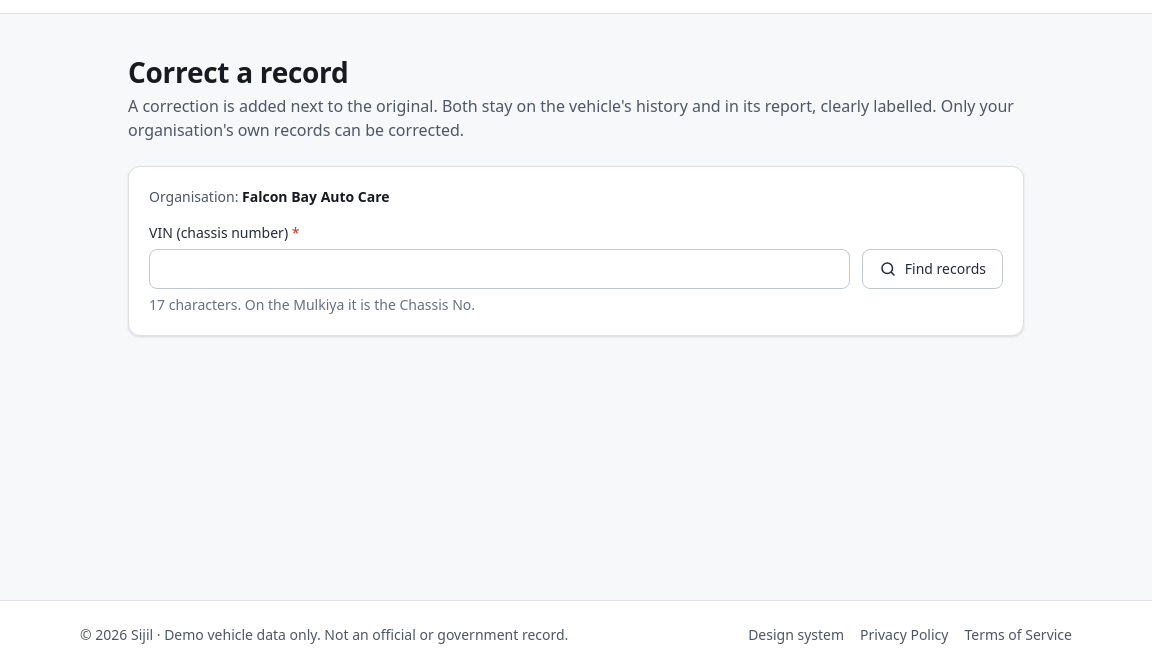
Test case: correct a record › lists the organisation’s records for the VIN and saves a correction prefilled from the original
In the field labelled "VIN (chassis number) *": (499, 269) 149,249 -> 850,289, type "jtnbk3ek6n3-012345"
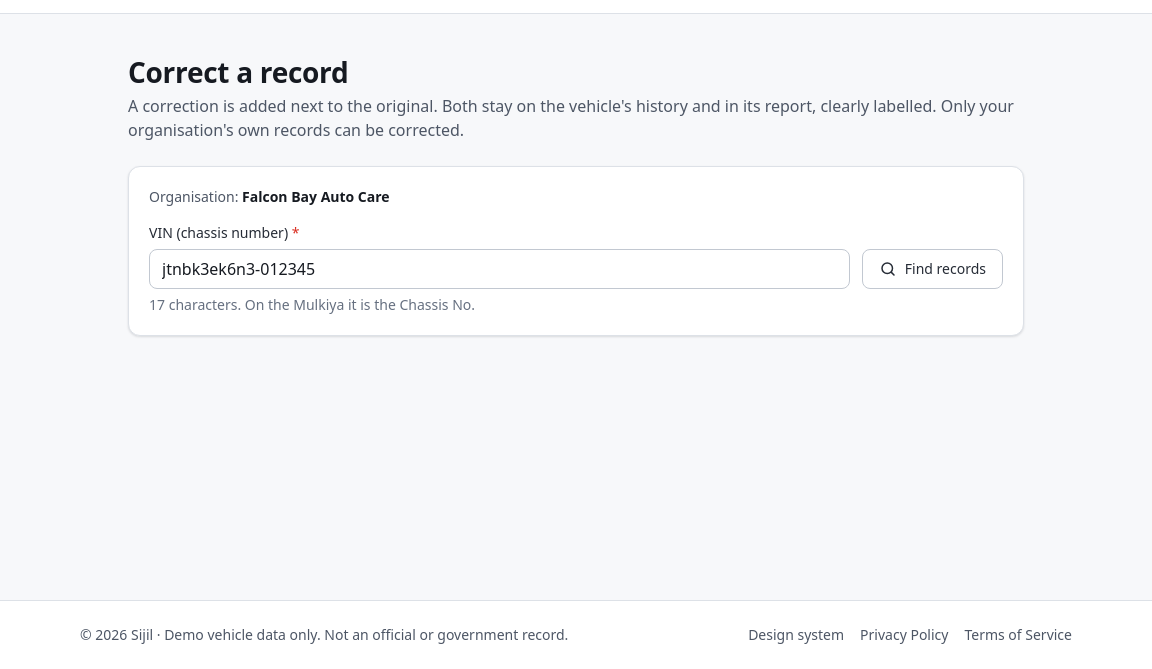
Click the button "Find records": (932, 269) 862,249 -> 1003,289
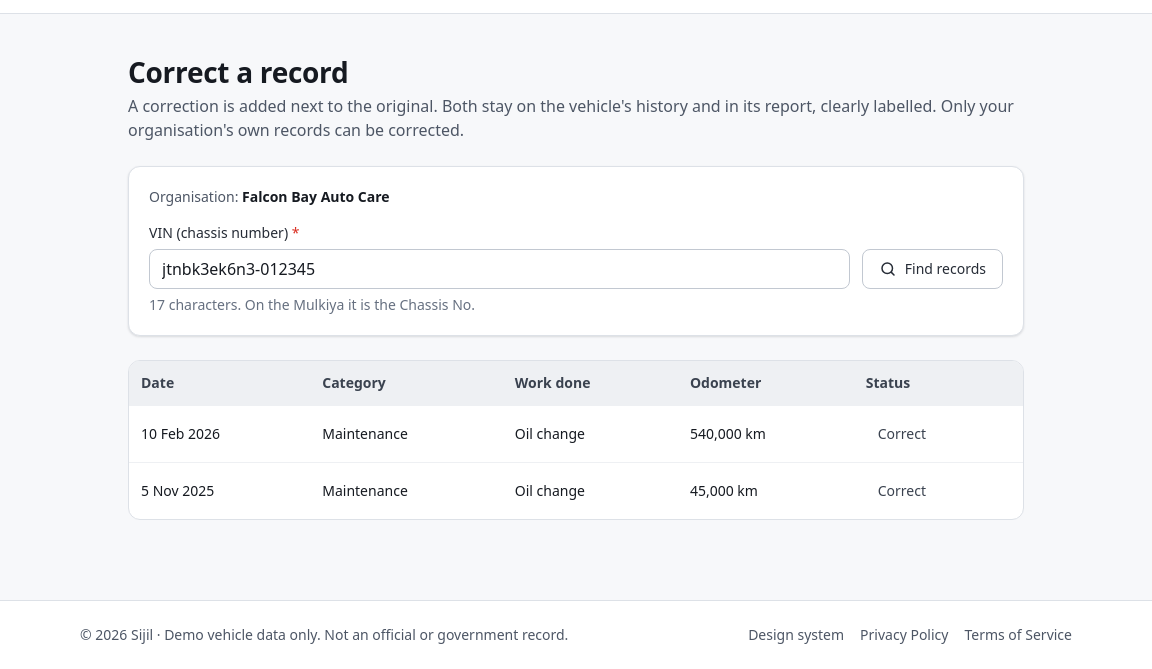
Click the button with aria-label "Correct the 10 Feb 2026 record": (902, 434) 866,418 -> 938,450
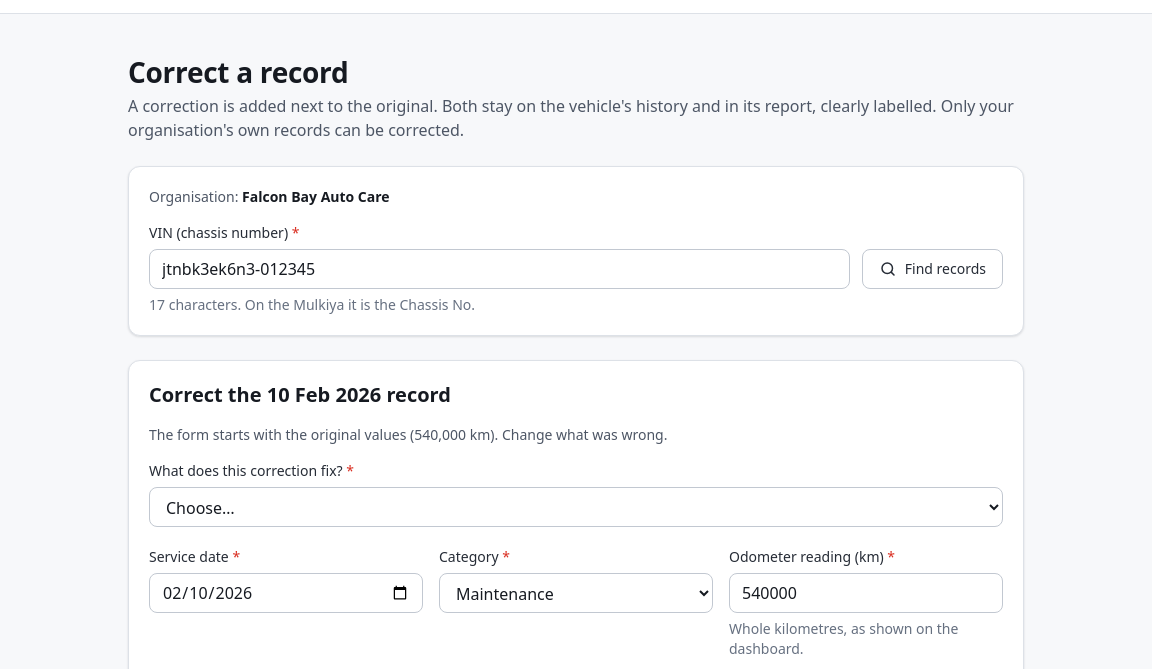
Expected: the field labelled "Odometer reading (km) *" holds "540000", 729,573 -> 1003,613
Select "Odometer reading" in the dropdown labelled "What does this correction fix? *": (576, 507) 149,487 -> 1003,527
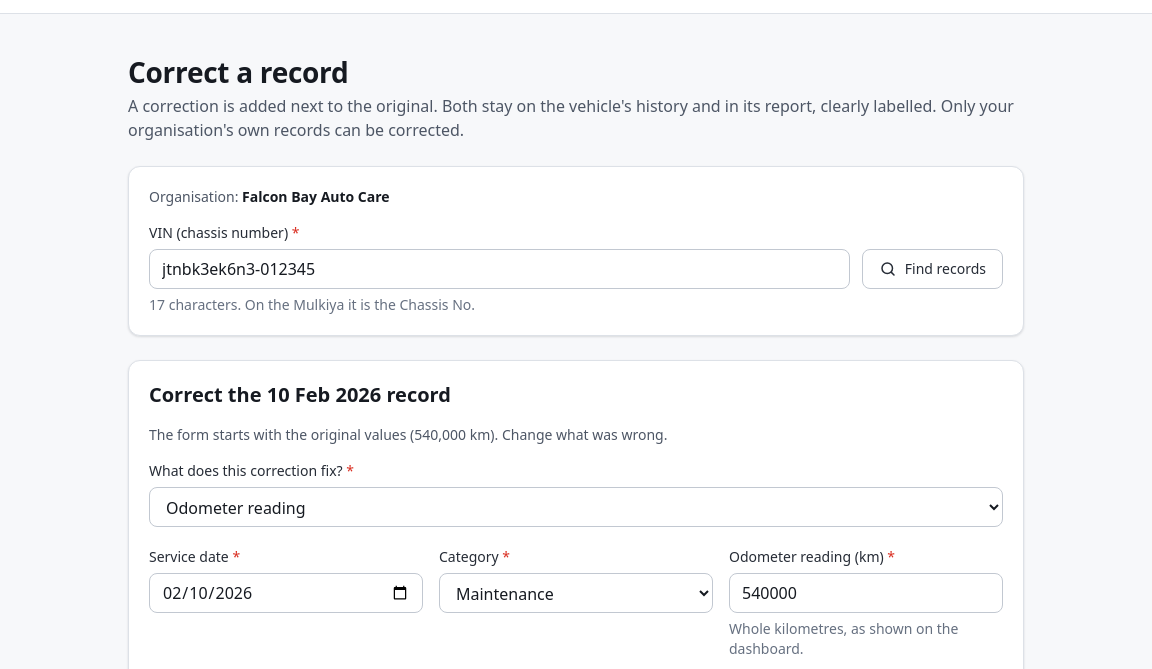
Replace the text in the field labelled "Odometer reading (km) *" with "54000": (866, 593) 729,573 -> 1003,613
(page scrolled)
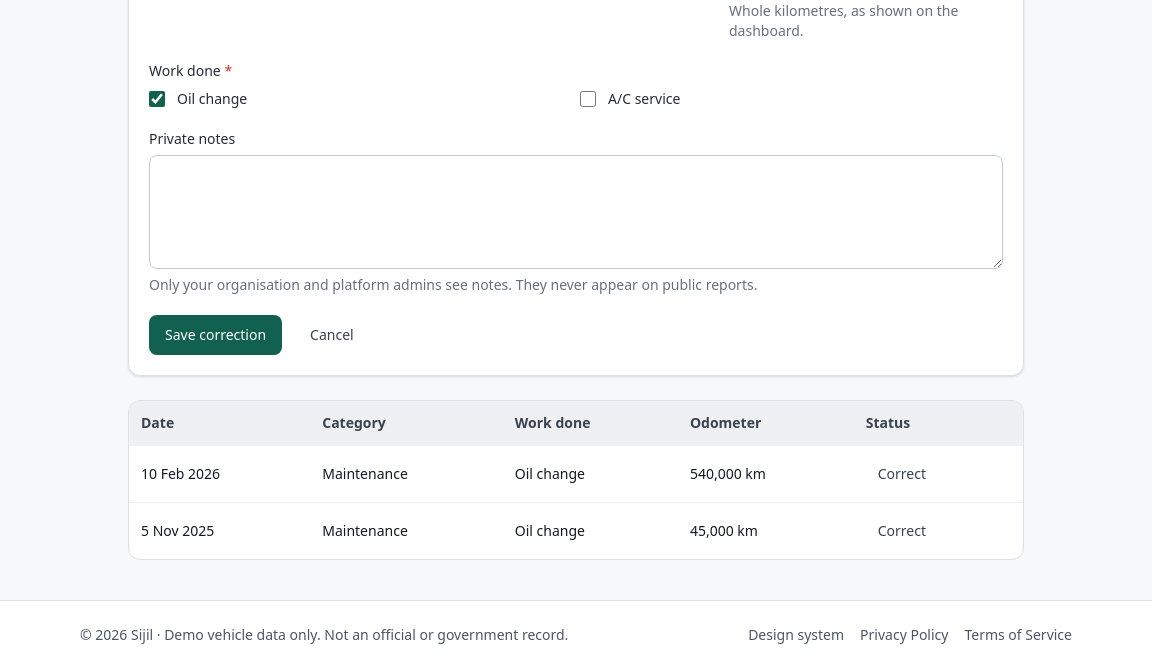
Click the button "Save correction": (216, 335) 149,315 -> 282,355
(page scrolled)
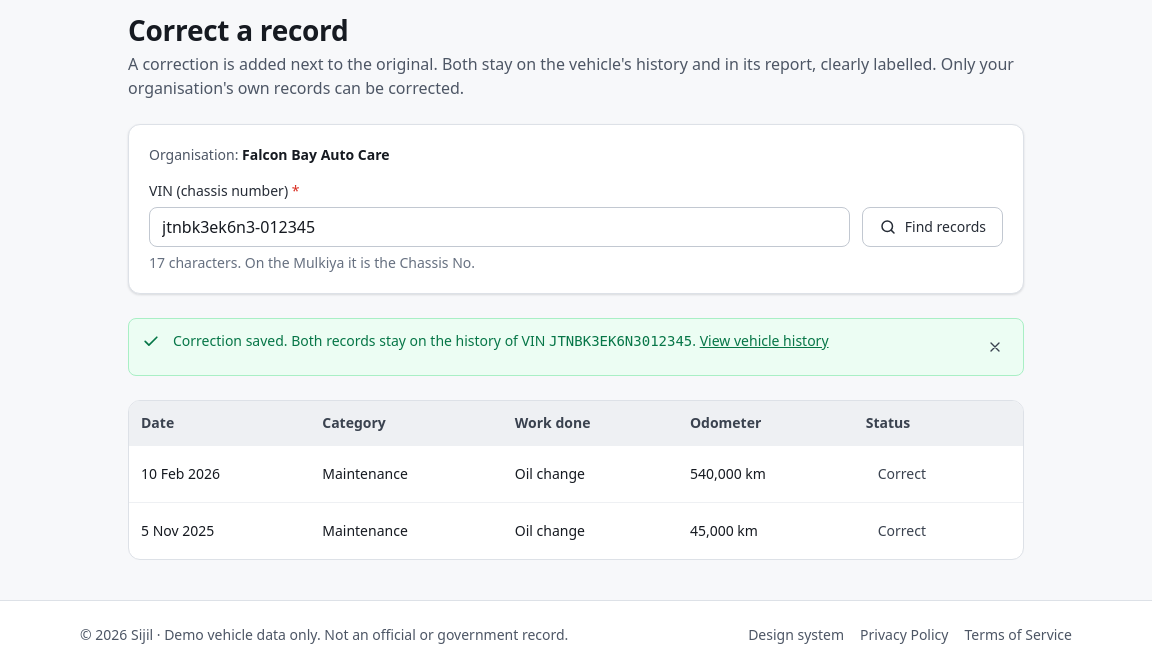
Expected: the text "Correction saved" is shown, 173,331 -> 518,350
